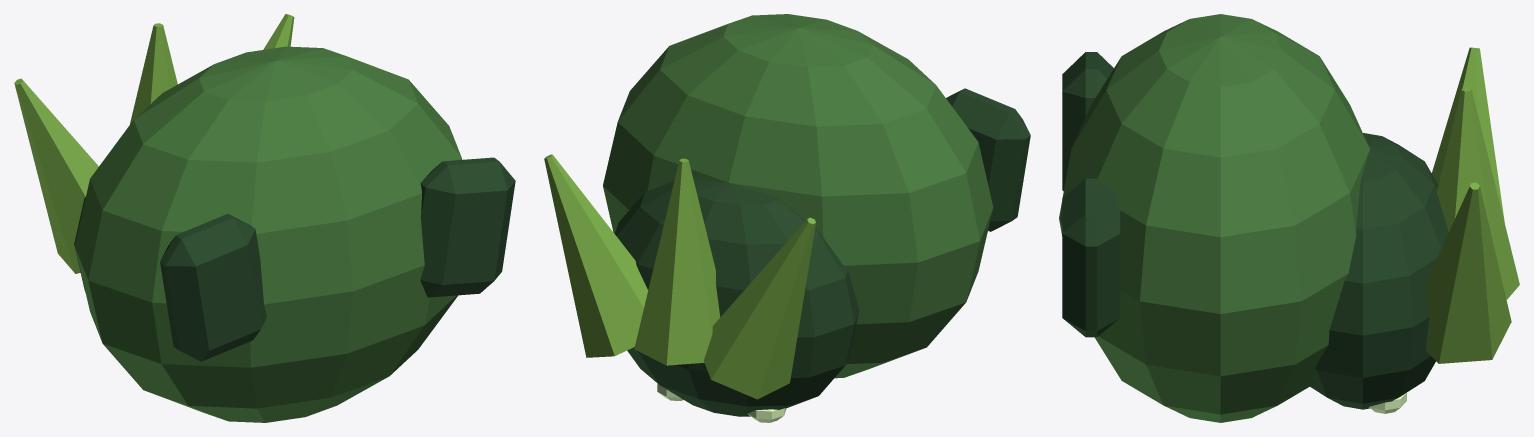
Rendered from LumenMossling.glb.
3 renders of one model, left to right at view 1: azimuth 30°, elevation 25°; view 2: azimuth 150°, elevation 25°; view 3: azimuth 270°, elevation 25°, orthographic. The views are drawn at different scales.
Visible parts, largest first — view 1: Body, FootL, FootR, Leaf, Leaf.001, Leaf.002; view 2: Body, Head, Leaf, Leaf.001, Leaf.002, FootL; view 3: Body, Head, Leaf.002, FootR, Leaf.001, FootL, Leaf.
Part boxes in pixels (bbox=[...]): Body: bbox=[74, 46, 462, 422]; FootL: bbox=[160, 213, 266, 361]; FootR: bbox=[420, 157, 515, 297]; Leaf: bbox=[14, 78, 98, 273]; Leaf.001: bbox=[130, 23, 177, 124]; Leaf.002: bbox=[263, 14, 294, 49]; Body: bbox=[603, 14, 993, 378]; Head: bbox=[615, 177, 859, 416]; Leaf: bbox=[703, 217, 815, 399]; Leaf.001: bbox=[634, 158, 720, 365]; Leaf.002: bbox=[544, 154, 648, 357]; FootL: bbox=[946, 88, 1030, 231]; Body: bbox=[1059, 14, 1370, 422]; Head: bbox=[1310, 133, 1448, 409]; Leaf.002: bbox=[1424, 182, 1511, 363]; FootR: bbox=[1062, 178, 1120, 337]; Leaf.001: bbox=[1437, 87, 1519, 299]; FootL: bbox=[1062, 52, 1113, 191]; Leaf: bbox=[1431, 47, 1504, 223].
Size of the model in its own units: 3.5 by 3.1 by 3.56.
1 material, 1 textured.
